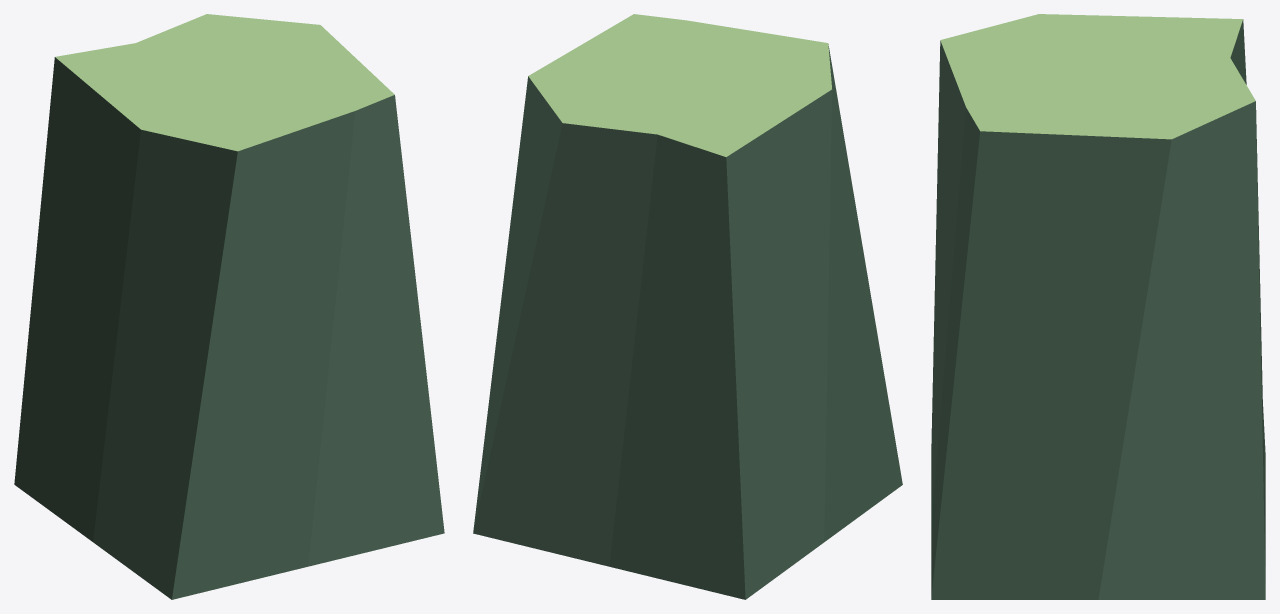
File: Island03.fbx
3 renders of one model, left to right at view 1: azimuth 30°, elevation 25°; view 2: azimuth 150°, elevation 25°; view 3: azimuth 270°, elevation 25°, orthographic. The views are drawn at different scales.
Parts seen in each view (by area): view 1: Plane.003; view 2: Plane.003; view 3: Plane.003.
Part boxes in pixels (x1,y1,x2,y2): Plane.003: (14, 14, 444, 599); Plane.003: (473, 14, 902, 599); Plane.003: (931, 14, 1265, 599).
Size of the model in its own units: 100 by 150 by 100.
